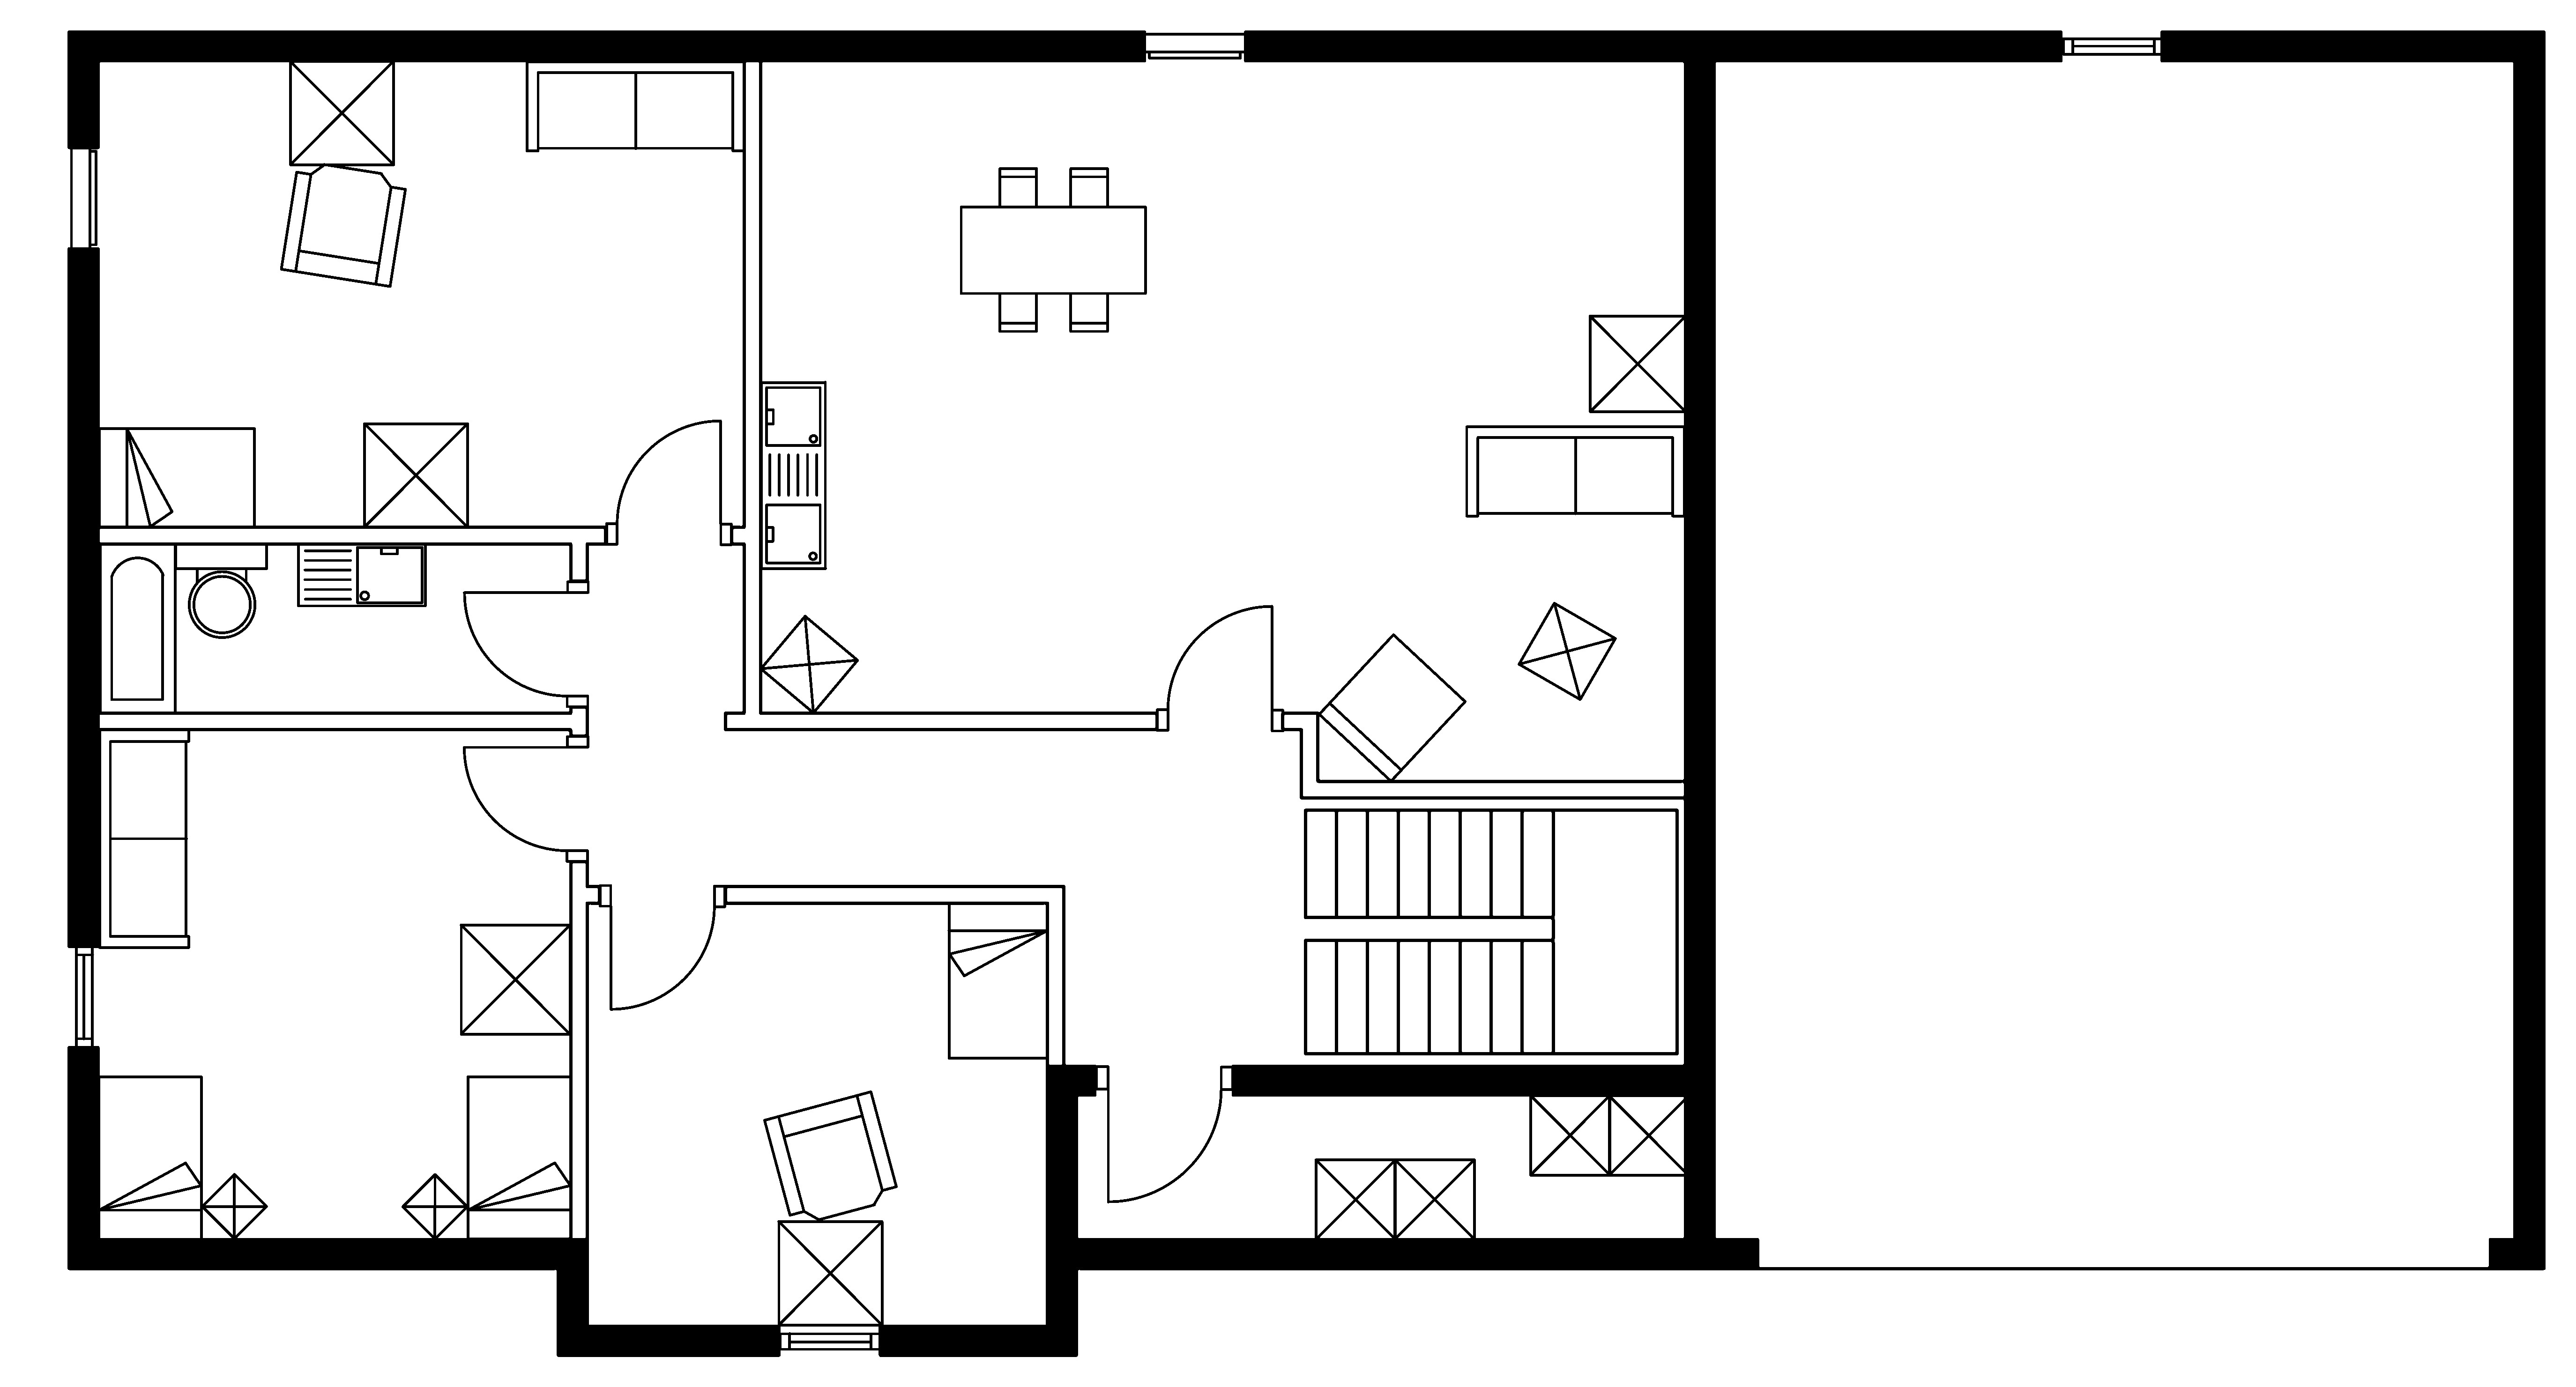armchair: (762, 1090, 899, 1221), (278, 162, 407, 289)
bed: (96, 1074, 203, 1240), (465, 1074, 572, 1240), (97, 425, 256, 530), (946, 900, 1049, 1059)
coffee_table: (458, 922, 572, 1035), (362, 422, 470, 530), (287, 58, 395, 166), (776, 1220, 883, 1327), (758, 613, 859, 714), (1517, 601, 1618, 702), (1587, 313, 1688, 413), (1527, 1093, 1613, 1177), (1607, 1093, 1691, 1177), (1392, 1156, 1476, 1240), (1314, 1156, 1397, 1240), (400, 1172, 470, 1240), (200, 1172, 268, 1240)
dining_table: (958, 166, 1146, 333)
large_sink: (173, 541, 268, 639)
large_sofa: (1464, 424, 1686, 518), (97, 728, 191, 950), (524, 60, 746, 152)
sink: (296, 541, 427, 608)
small_sofa: (1317, 632, 1467, 782)
tub: (97, 541, 178, 714)
twin_sink: (758, 379, 827, 571)
